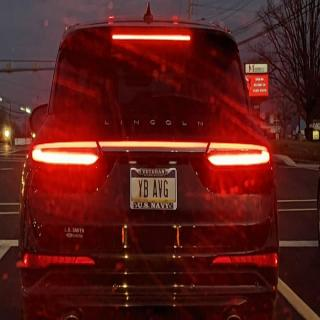license: (130, 168, 178, 211)
